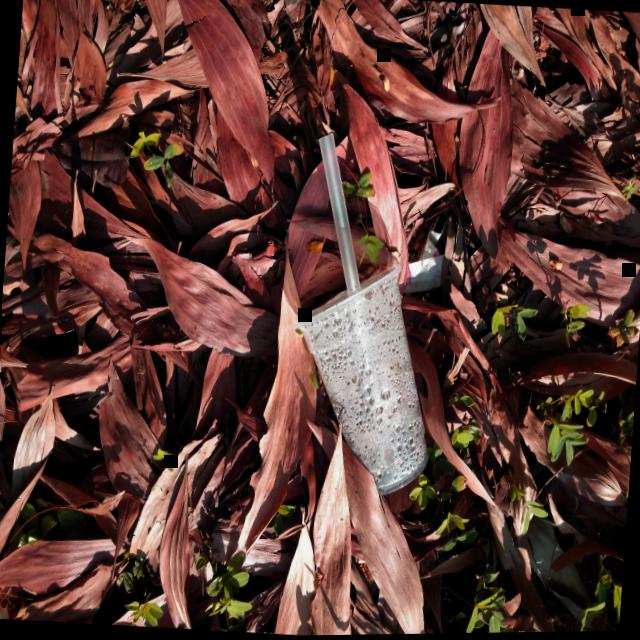Disposable plastic cup: (292, 266, 427, 496)
Other plastic: (402, 219, 447, 294)
Plastic straw: (317, 134, 360, 293)
